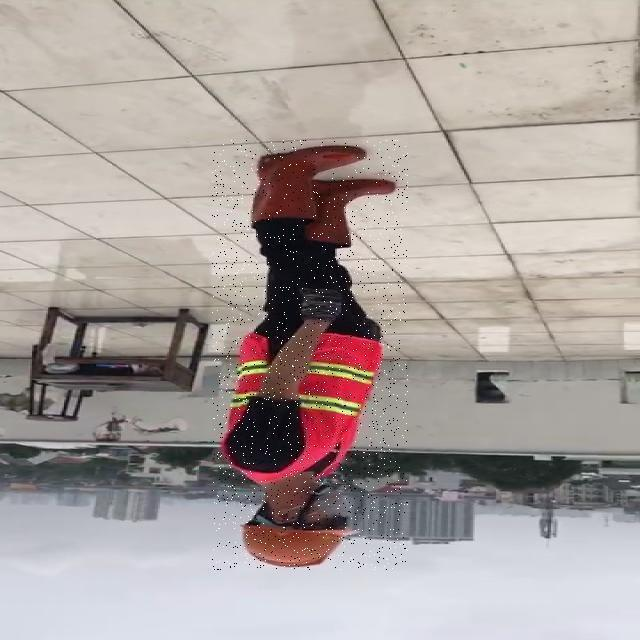Boots: (254, 142, 372, 224), (306, 180, 406, 258)
Gloves: (298, 288, 349, 324)
Helmet: (238, 526, 350, 570)
Vest: (216, 336, 382, 484)
